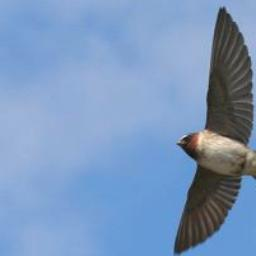Swallow: (172, 4, 256, 255)
